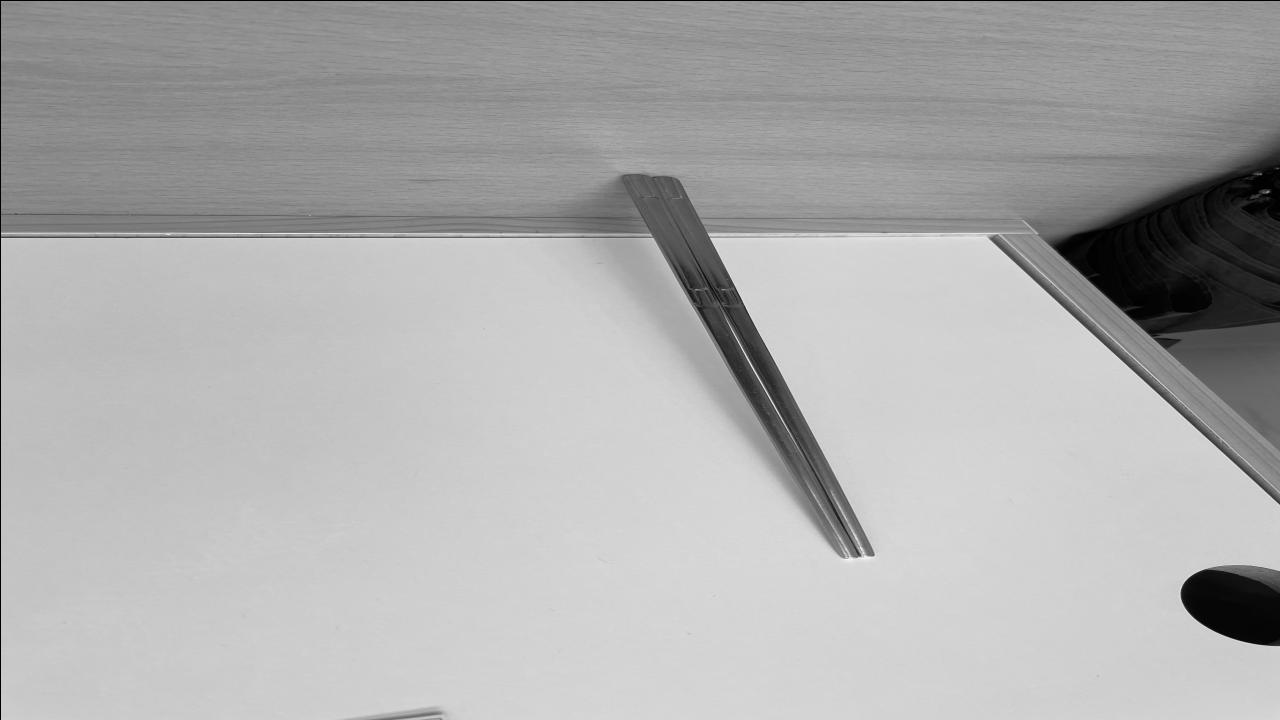chopstick: (614, 172, 870, 556)
